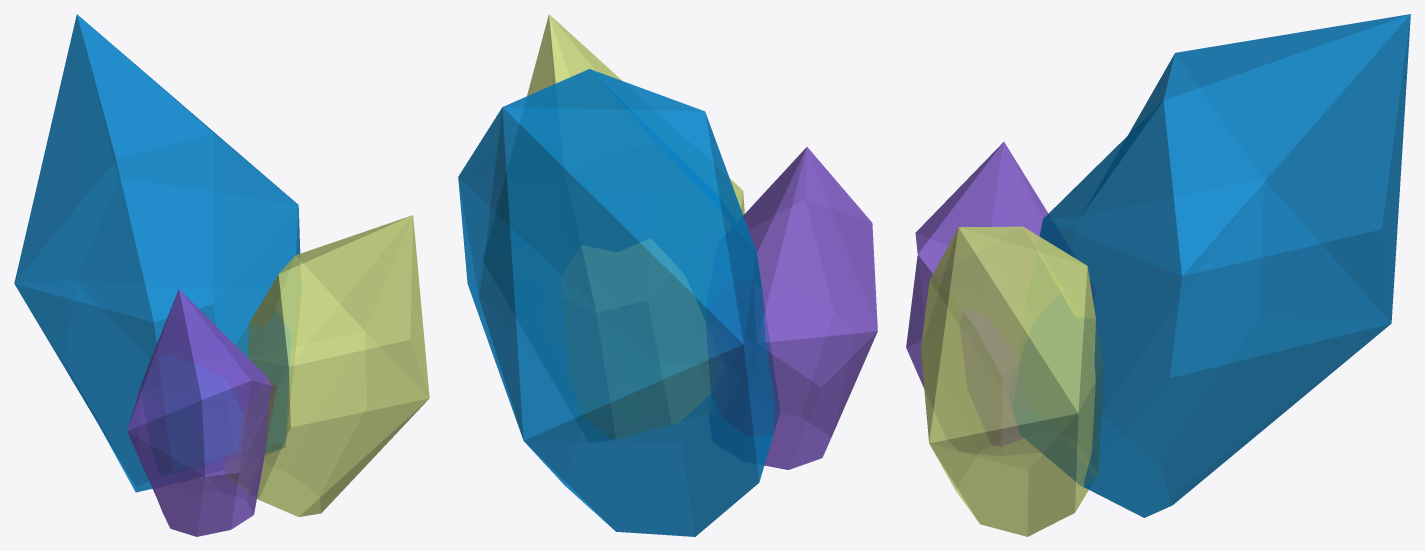
Rendered from Crystals.fbx.
The picture shows the model from 3 angles, left to right: view 1: azimuth 30°, elevation 25°; view 2: azimuth 150°, elevation 25°; view 3: azimuth 270°, elevation 25°; orthographic projection. The views are drawn at different scales.
Parts seen in each view (by area): view 1: Cube; view 2: Cube; view 3: Cube.
Boxes of the visible parts, <box> form: Cube: <box>14,14,429,536</box>; Cube: <box>458,14,877,536</box>; Cube: <box>906,14,1410,536</box>.
Size of the model in its own units: 1511 by 2068 by 1951.
